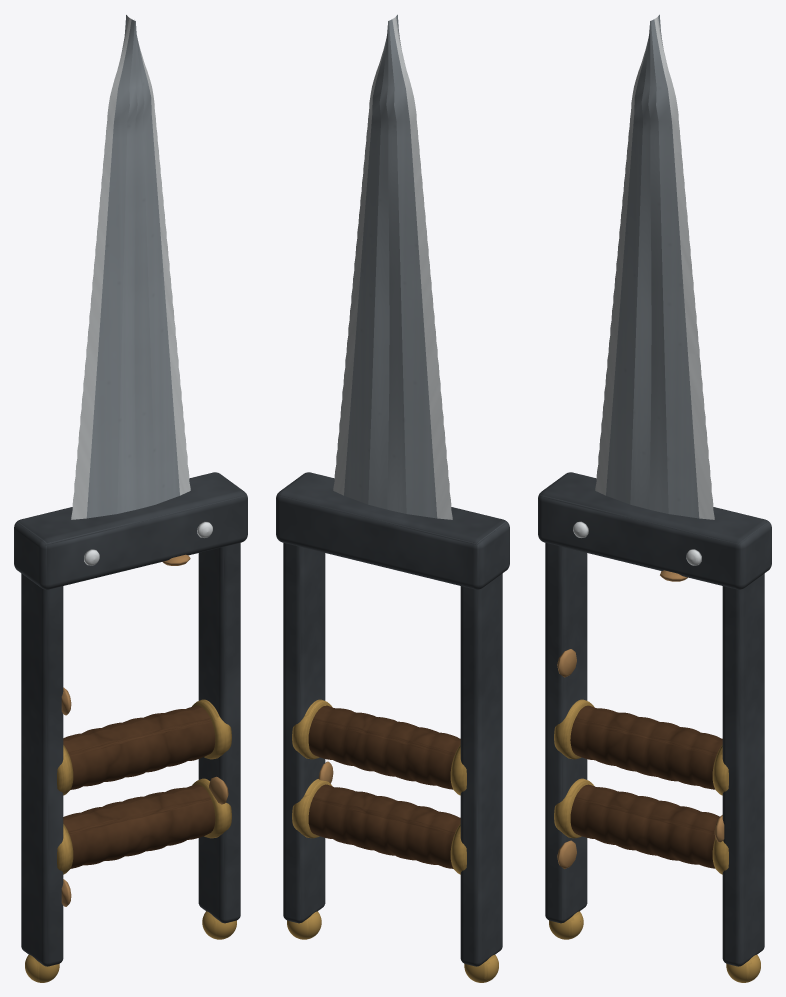
The model's file is punch-dagger.glb.
3 views of the same model, side by side, from view 1: azimuth 30°, elevation 25°; view 2: azimuth 150°, elevation 25°; view 3: azimuth 330°, elevation 25° (orthographic).
Visible parts, largest first — view 1: darksteel / oil-blackened fittings, steel / forged blade steel, leather / oiled leather wrap, edge / honed bright bevel, brass / polished brass furniture, peened pin; view 2: darksteel / oil-blackened fittings, steel / forged blade steel, leather / oiled leather wrap, edge / honed bright bevel, brass / polished brass furniture; view 3: darksteel / oil-blackened fittings, steel / forged blade steel, leather / oiled leather wrap, edge / honed bright bevel, brass / polished brass furniture, peened pin.
Part boxes in pixels (x1=…): darksteel / oil-blackened fittings: x1=14, y1=472, x2=247, y2=966; steel / forged blade steel: x1=86, y1=15, x2=179, y2=518; leather / oiled leather wrap: x1=63, y1=705, x2=215, y2=868; edge / honed bright bevel: x1=71, y1=17, x2=212, y2=565; brass / polished brass furniture: x1=25, y1=699, x2=236, y2=982; peened pin: x1=61, y1=554, x2=228, y2=906; darksteel / oil-blackened fittings: x1=276, y1=472, x2=509, y2=966; steel / forged blade steel: x1=344, y1=14, x2=437, y2=518; leather / oiled leather wrap: x1=308, y1=705, x2=460, y2=868; edge / honed bright bevel: x1=333, y1=17, x2=452, y2=519; brass / polished brass furniture: x1=287, y1=699, x2=498, y2=982; darksteel / oil-blackened fittings: x1=538, y1=472, x2=771, y2=966; steel / forged blade steel: x1=606, y1=14, x2=699, y2=518; leather / oiled leather wrap: x1=570, y1=705, x2=722, y2=868; edge / honed bright bevel: x1=573, y1=17, x2=714, y2=565; brass / polished brass furniture: x1=549, y1=699, x2=760, y2=982; peened pin: x1=557, y1=570, x2=724, y2=868.
Size of the model in its own units: 0.11 by 0.477 by 0.0335.
7 materials, 5 textured.
